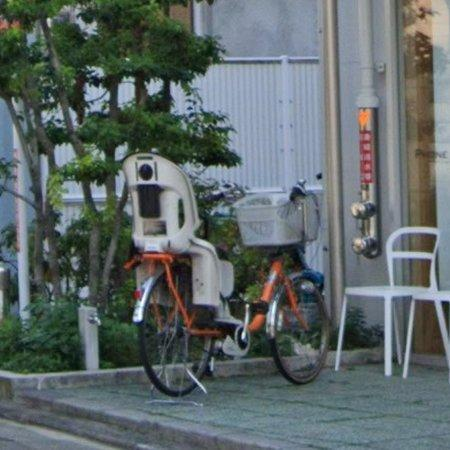bicycles: (123, 154, 330, 396)
